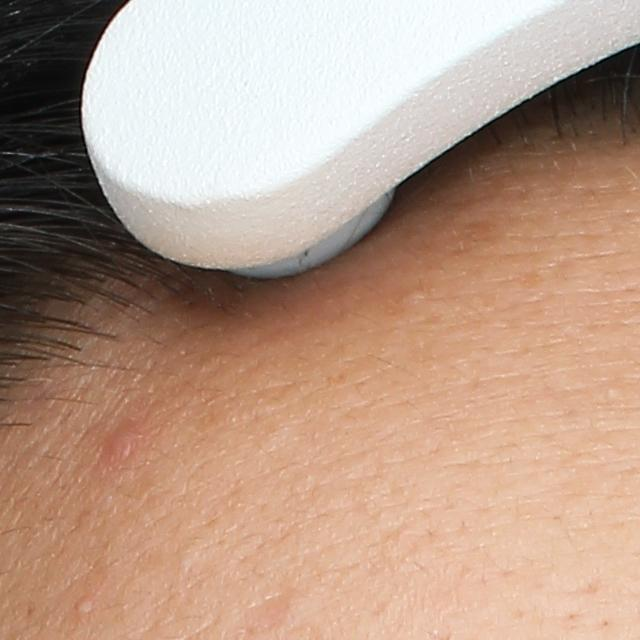atrophic_scar: (236, 582, 305, 636)
papule: (103, 422, 139, 464), (73, 593, 95, 617)
